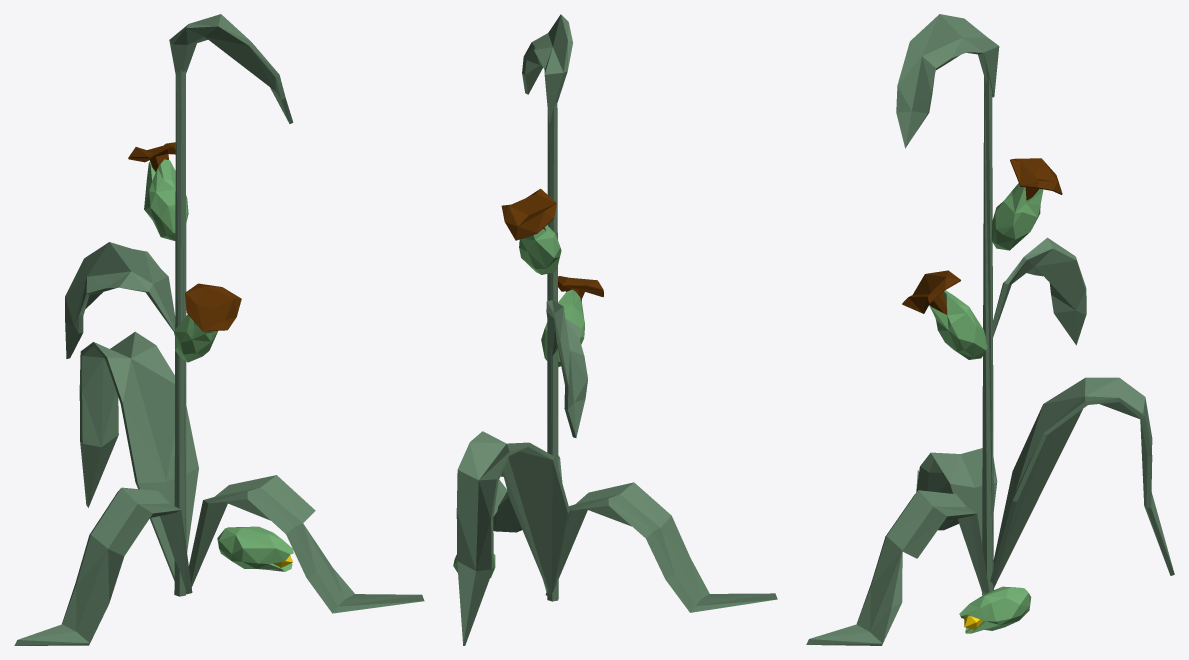
The model's file is corn2.fbx.
3 views of the same model, side by side, from view 1: azimuth 30°, elevation 25°; view 2: azimuth 150°, elevation 25°; view 3: azimuth 270°, elevation 25° (orthographic). The views are drawn at different scales.
Visible parts, largest first — view 1: corn2; view 2: corn2; view 3: corn2.
Part boxes in pixels (x1,y1,x2,y2): corn2: (14, 14, 424, 645); corn2: (453, 14, 777, 645); corn2: (806, 14, 1174, 645).
Size of the model in its own units: 85.53 by 137 by 78.05.
